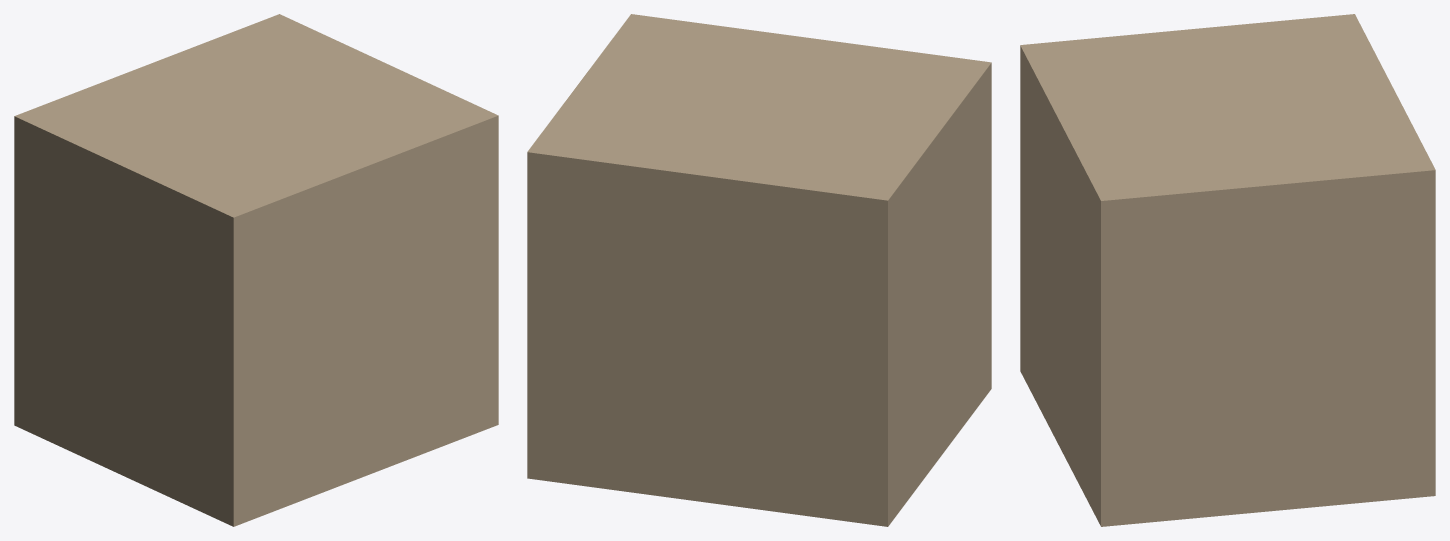
The model's file is bld_106455941.dae.
3 views of the same model, side by side, from view 1: azimuth 30°, elevation 25°; view 2: azimuth 150°, elevation 25°; view 3: azimuth 270°, elevation 25° (orthographic). The views are drawn at different scales.
Parts seen in each view (by area): view 1: bld_106455941; view 2: bld_106455941; view 3: bld_106455941.
Part boxes in pixels (x1=…): bld_106455941: x1=14, y1=14, x2=498, y2=526; bld_106455941: x1=527, y1=14, x2=991, y2=526; bld_106455941: x1=1020, y1=14, x2=1435, y2=526.
Size of the model in its own units: 9.85 by 9.25 by 8.
